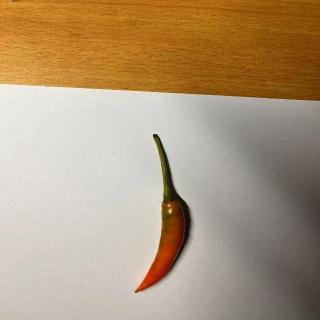Cabai Merah: (135, 134, 187, 294)
